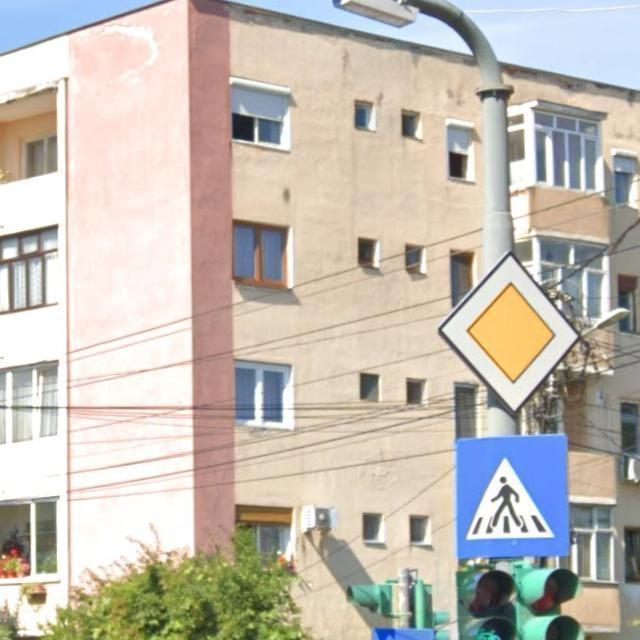info_crosswalk: (450, 432, 572, 559)
